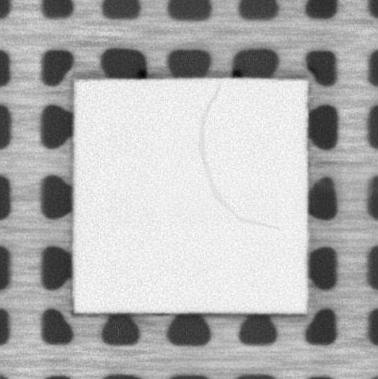DIE_CRACK: (193, 84, 281, 230)
